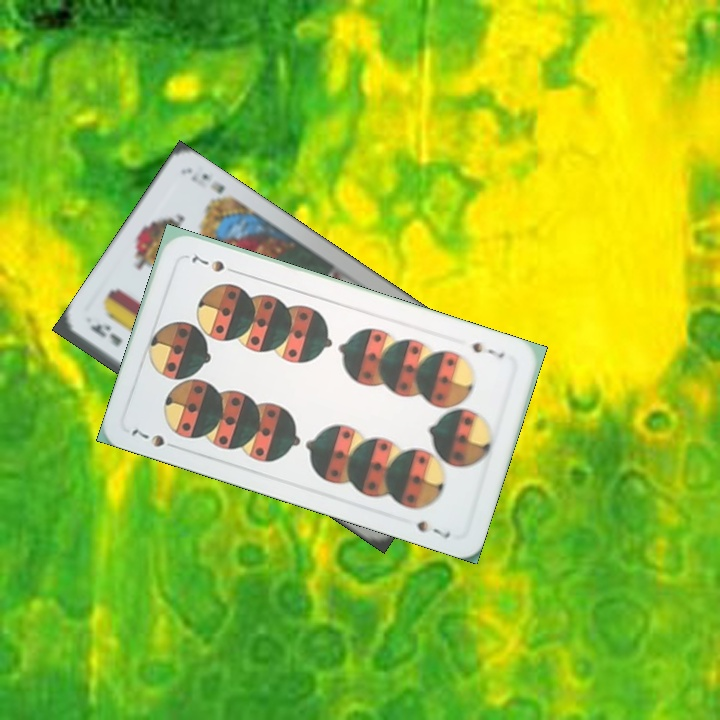EK: (85, 320, 125, 350)
S7: (127, 424, 182, 452), (468, 338, 507, 361)
